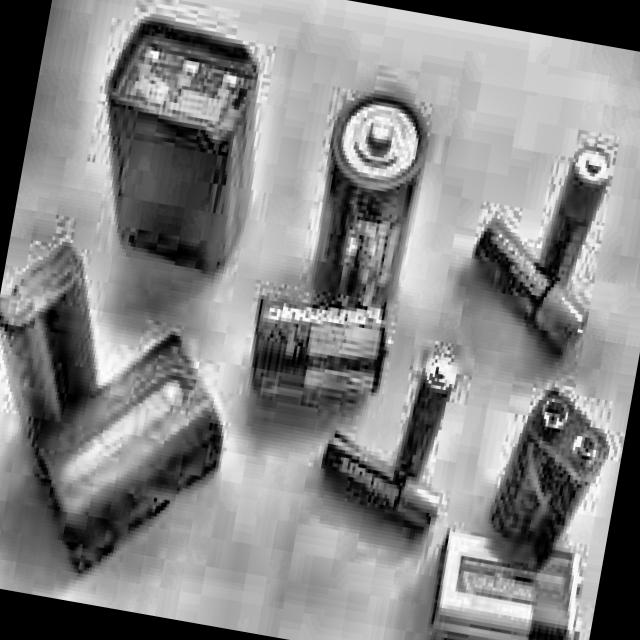Battery: (13, 311, 239, 597), (74, 8, 278, 276), (304, 76, 434, 308), (0, 239, 117, 444), (483, 379, 613, 552), (240, 280, 394, 418), (458, 226, 597, 368), (423, 533, 589, 640), (307, 435, 444, 549), (532, 144, 614, 276), (389, 351, 458, 488)
